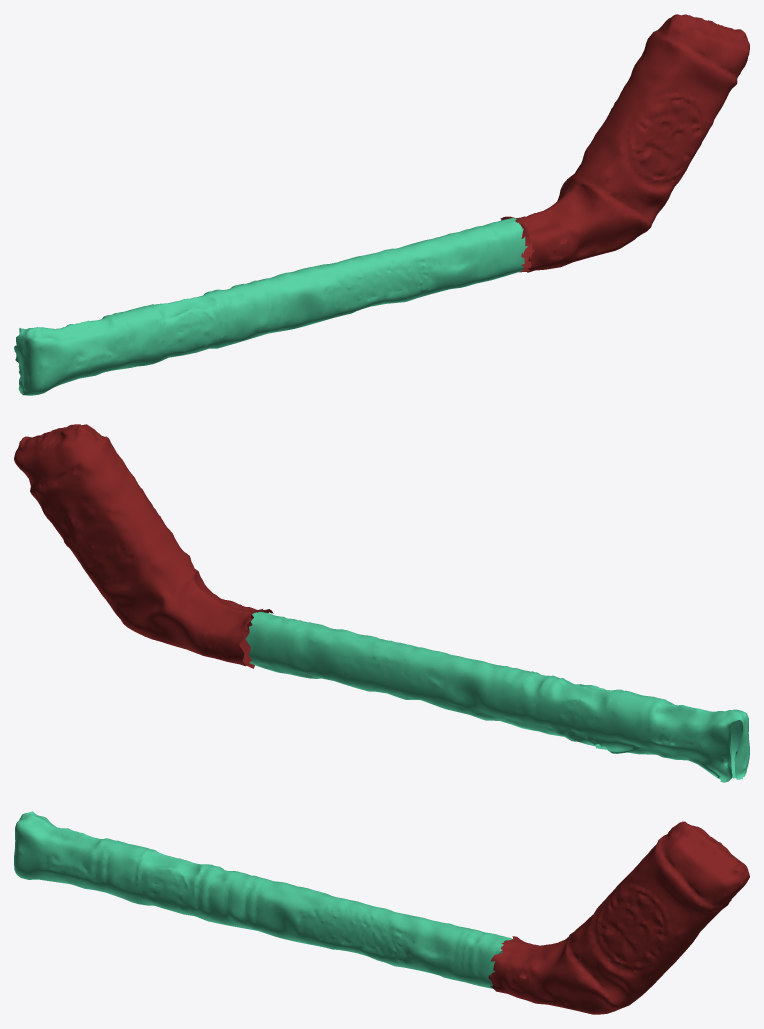
File: object_deformed_6.obj
The picture shows the model from 3 angles, top to bottom: view 1: azimuth 30°, elevation 25°; view 2: azimuth 150°, elevation 25°; view 3: azimuth 330°, elevation 25°; orthographic projection. The views are drawn at different scales.
Size of the model in its own units: 0.6064 by 0.1656 by 0.0628.
